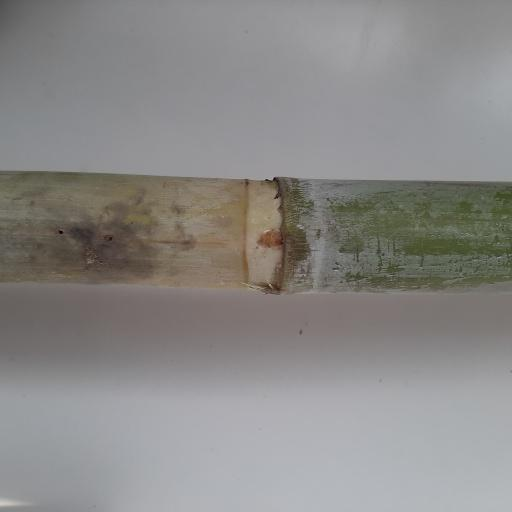Damage_Bud: (256, 226, 282, 250)
